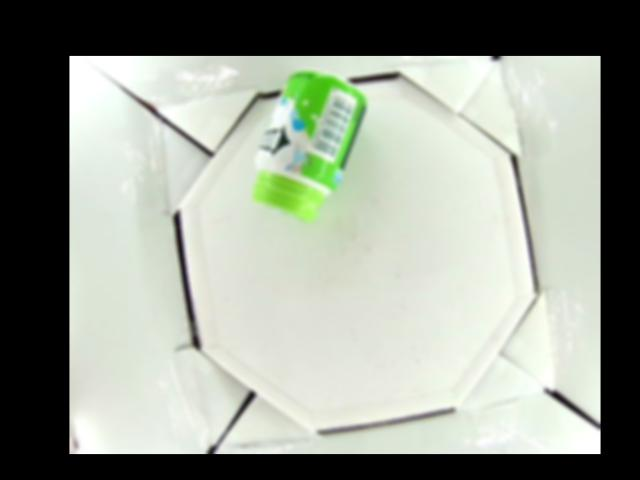Bottle: (254, 71, 367, 222)
